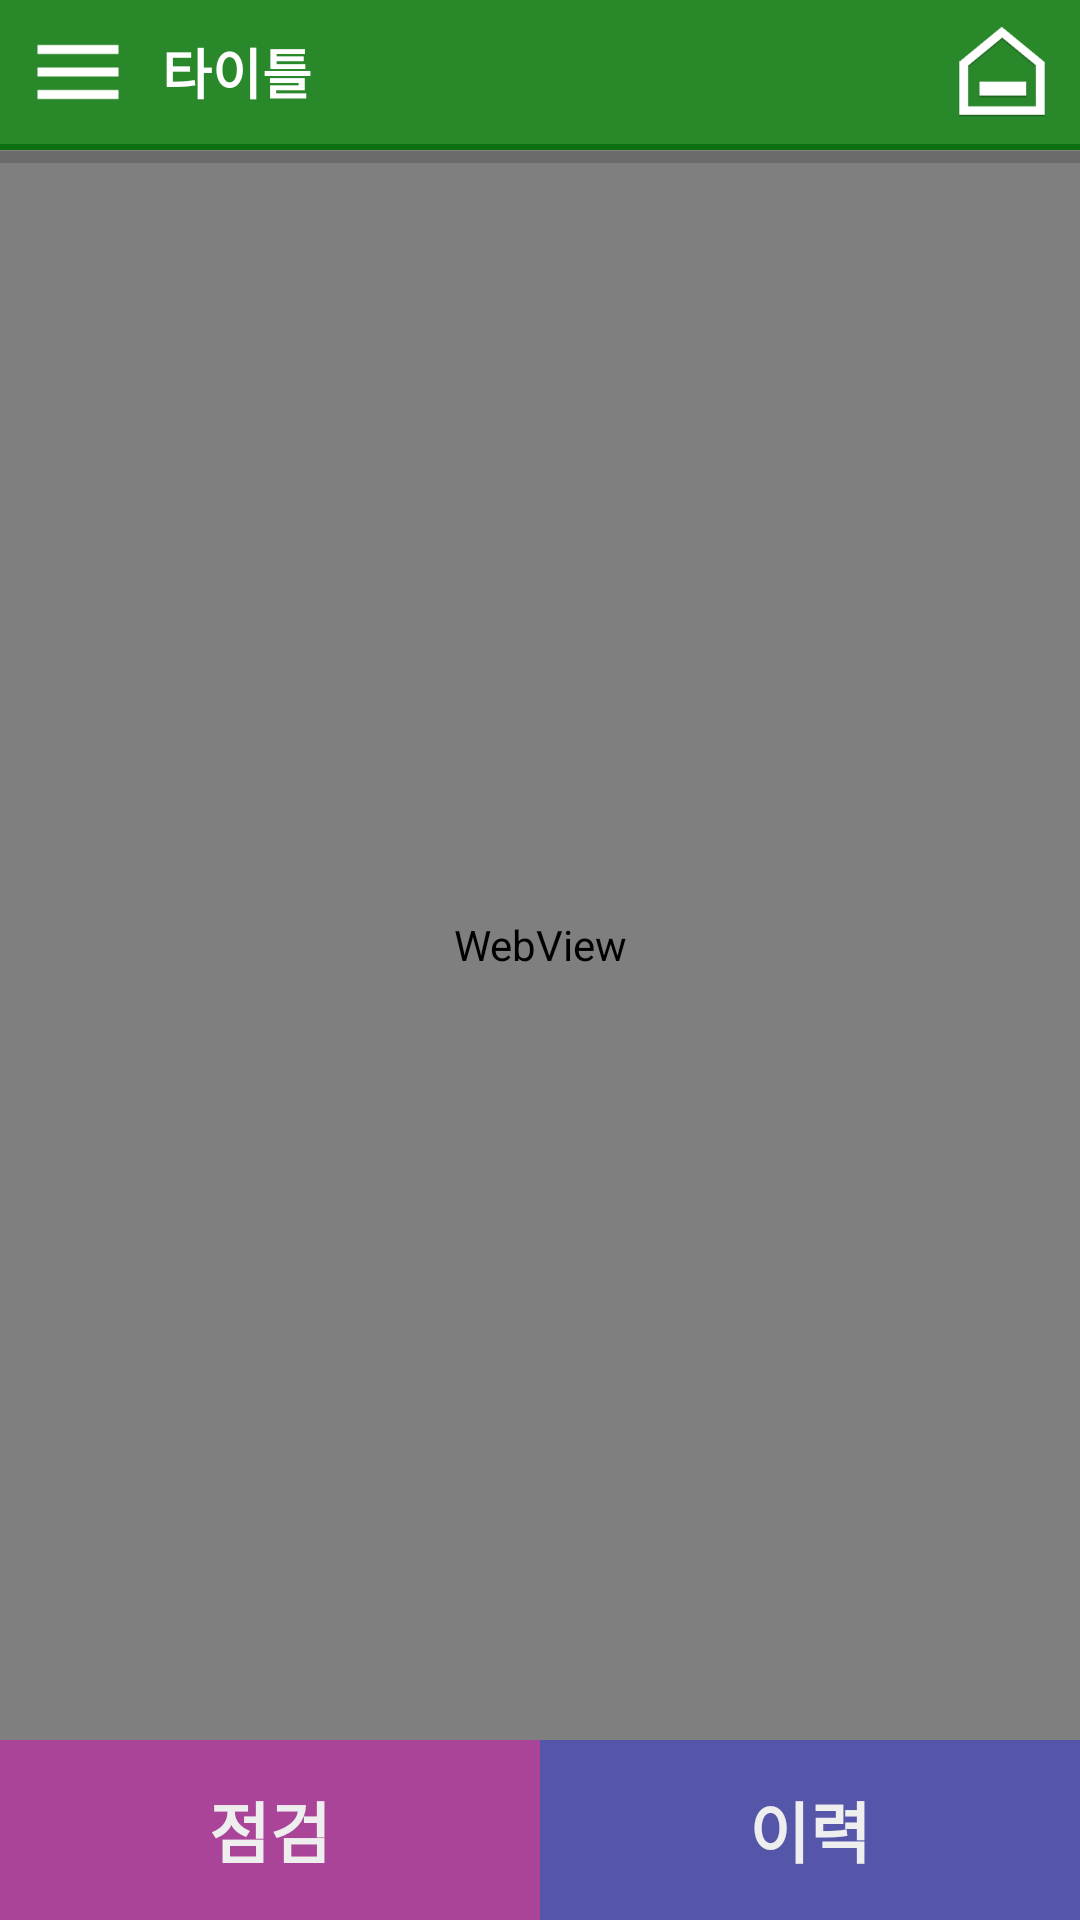

Screen size 1080 × 1920. Icon name, then its center in pixels as (x=x, y=y):
menu: (x=78, y=72)
top home: (x=1002, y=71)
